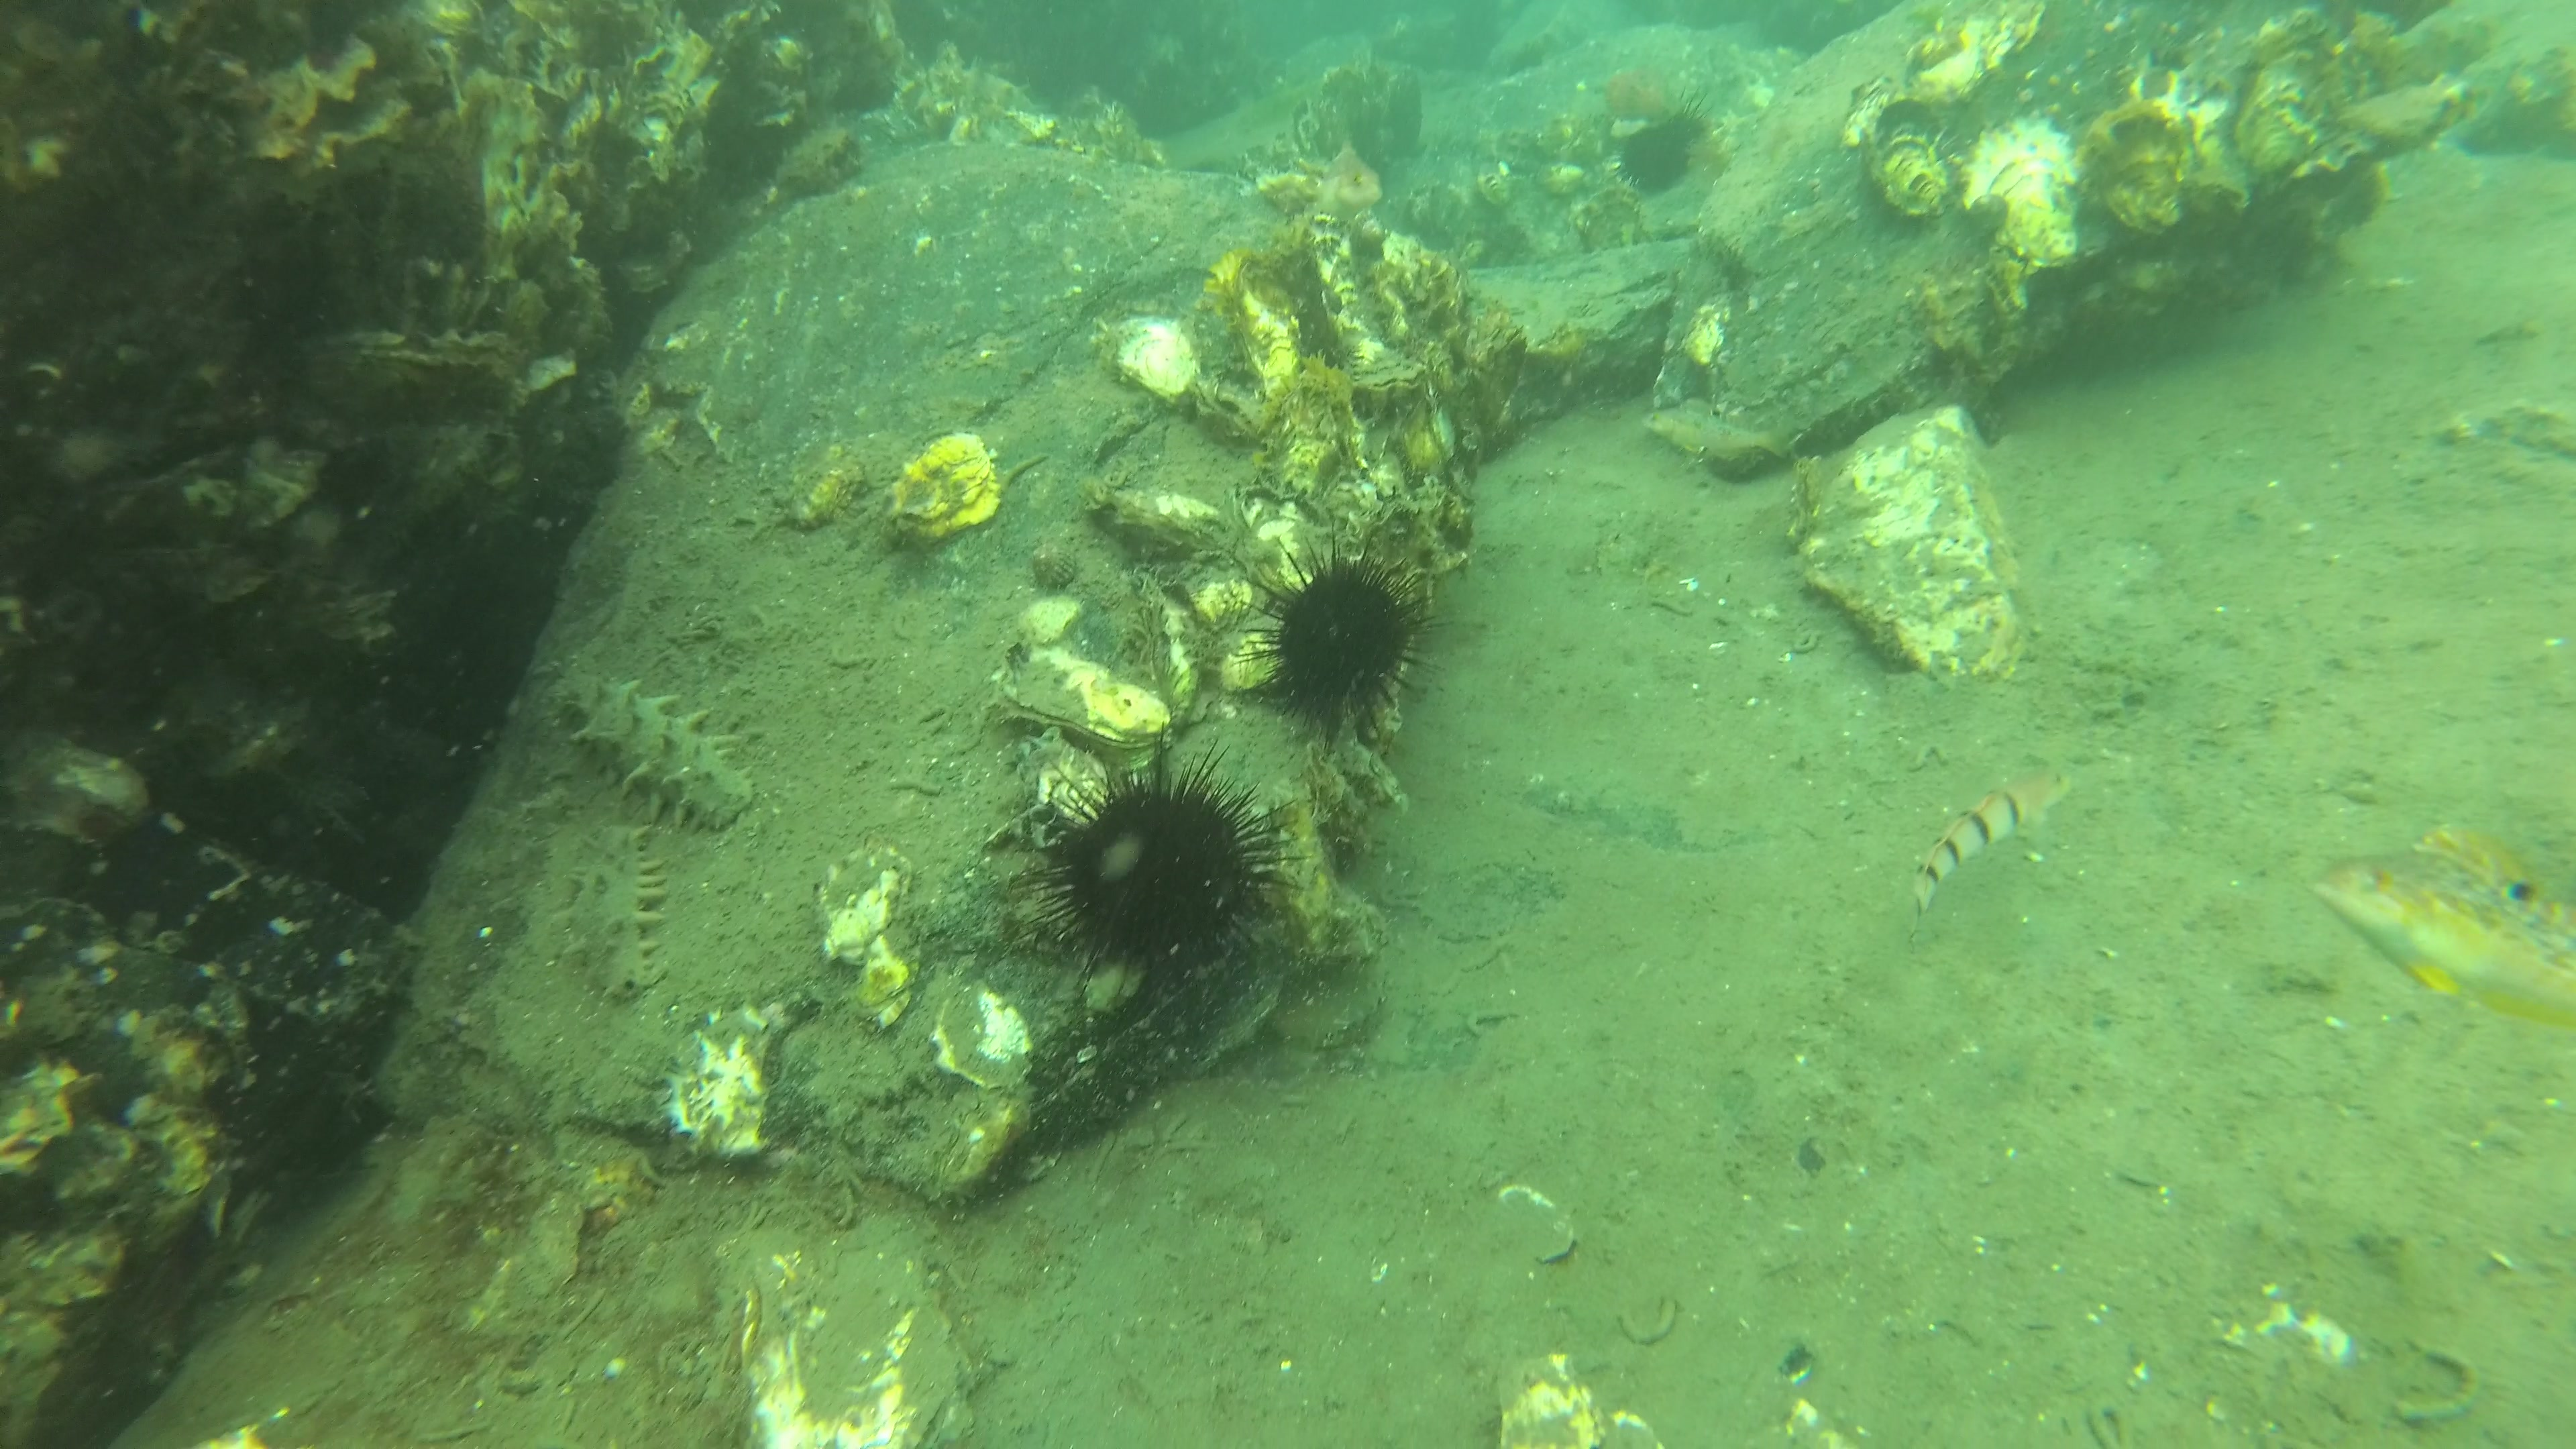echinus: (1019, 752, 1290, 984), (1251, 531, 1445, 732), (1614, 108, 1706, 196)
holothurian: (547, 658, 761, 839), (550, 824, 676, 1007)
